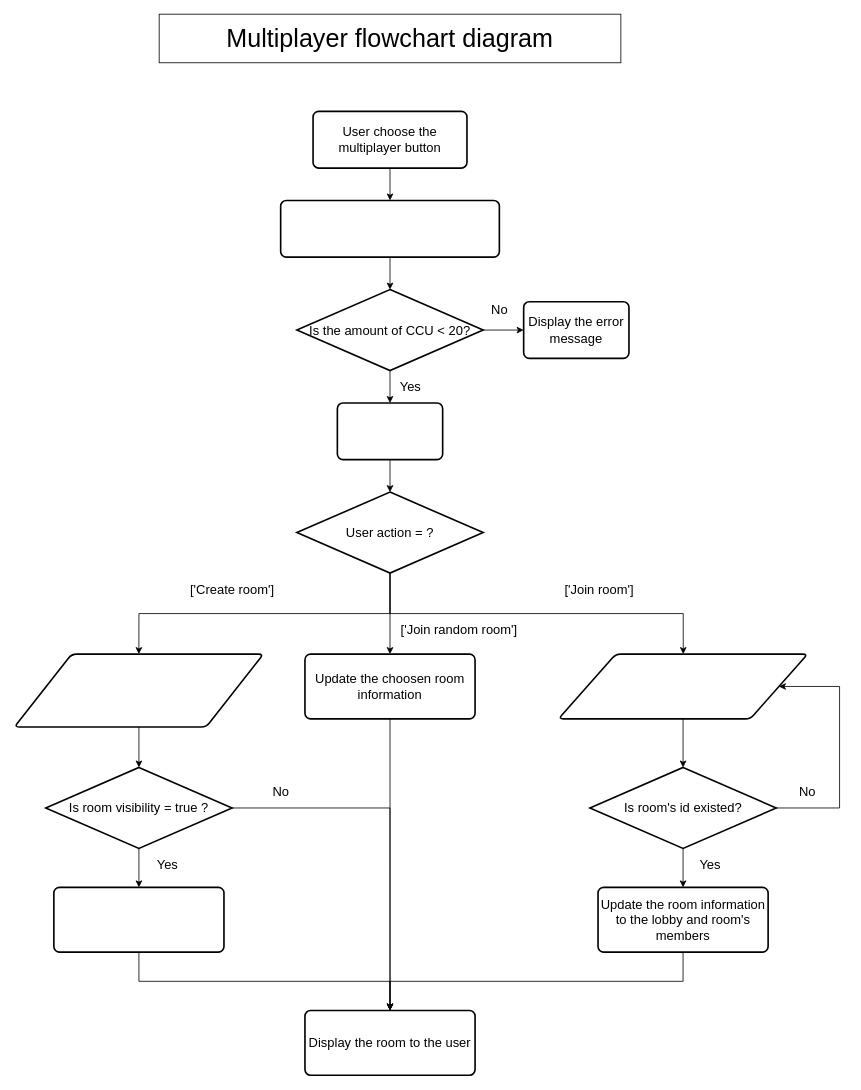
The diagram is 861 pixels wide and 1090 high, and some of its shapes have lost their labels. Here are the shapes that lost their labels. From the top down, the box of each, then its label:
(279, 199, 500, 258): Unity sends an authenticate Photon request through PlayFab
(336, 402, 443, 460): Display the lobby
(13, 653, 264, 727): User enter the room information and visibility
(557, 653, 808, 719): User enter the room's id
(53, 886, 224, 953): Update the lobby with the created room information
